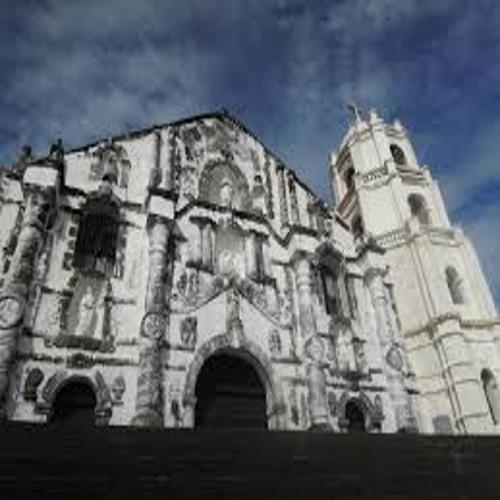Daraga Church: (6, 83, 500, 437)
